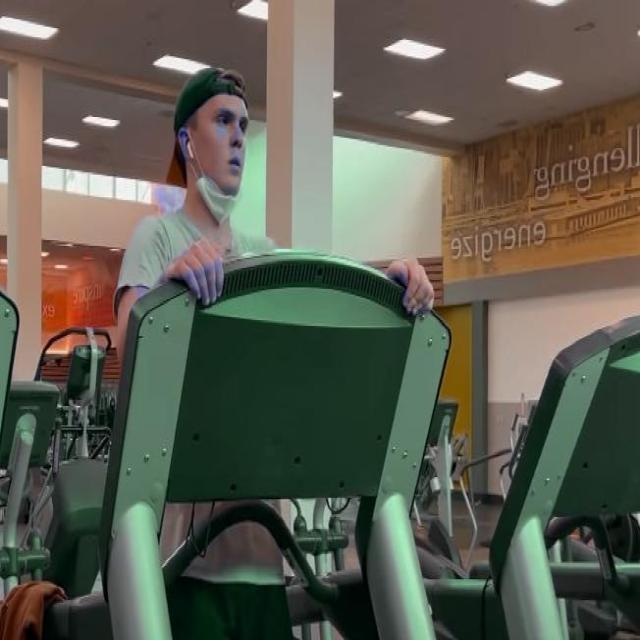hairnet: (198, 106, 248, 223)
